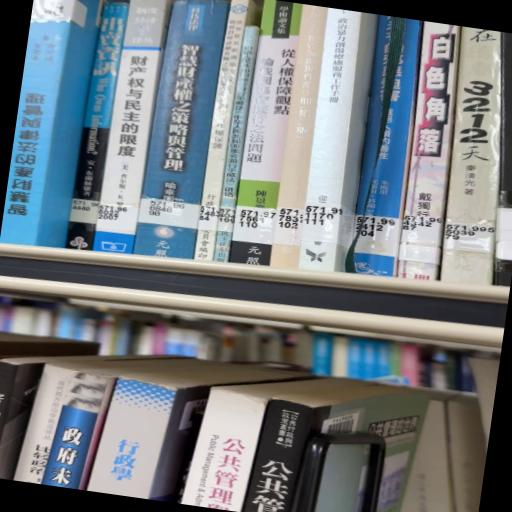reverse: (1, 1, 125, 248)
